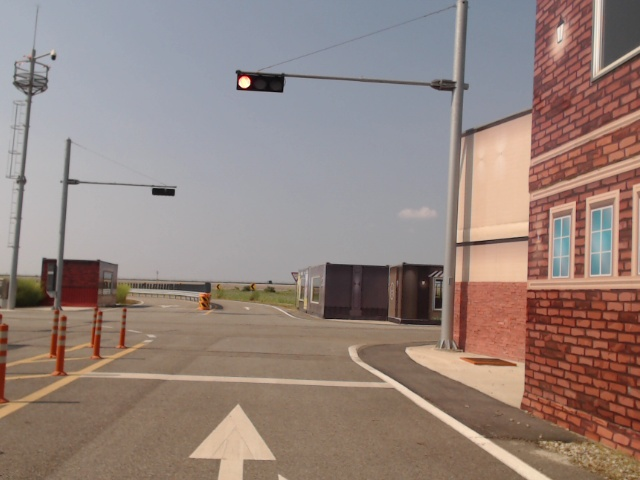red_3: (237, 71, 285, 93)
